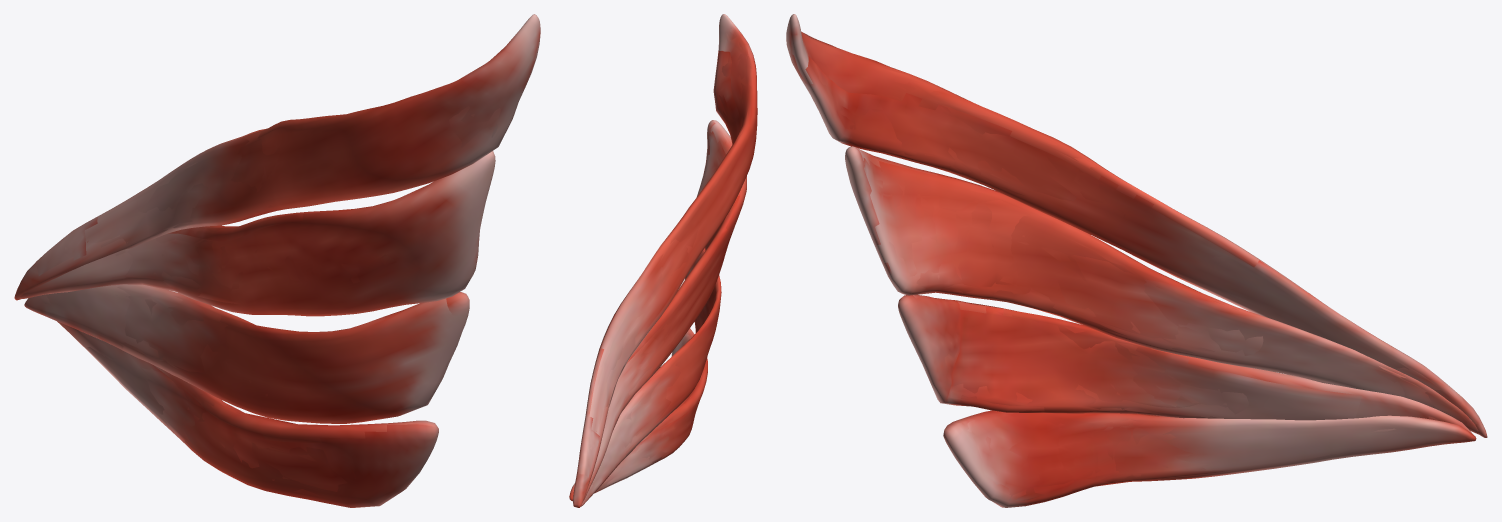
The model's file is R Serratus Ventralis cervicis.fbx.
3 views of the same model, side by side, from view 1: azimuth 30°, elevation 25°; view 2: azimuth 150°, elevation 25°; view 3: azimuth 270°, elevation 25° (orthographic). The views are drawn at different scales.
Parts seen in each view (by area): view 1: R Serratus Ventralis cervicis, R Serratus Ventralis cervicis low; view 2: R Serratus Ventralis cervicis, R Serratus Ventralis cervicis low; view 3: R Serratus Ventralis cervicis, R Serratus Ventralis cervicis low.
Part boxes in pixels (box(x1,y1,x2,y2)): R Serratus Ventralis cervicis: box(14, 14, 540, 507); R Serratus Ventralis cervicis low: box(39, 29, 520, 496); R Serratus Ventralis cervicis: box(569, 14, 757, 507); R Serratus Ventralis cervicis low: box(578, 22, 753, 490); R Serratus Ventralis cervicis: box(786, 14, 1487, 507); R Serratus Ventralis cervicis low: box(801, 32, 1472, 500).
Size of the model in its own units: 9.48 by 36.09 by 44.36.
